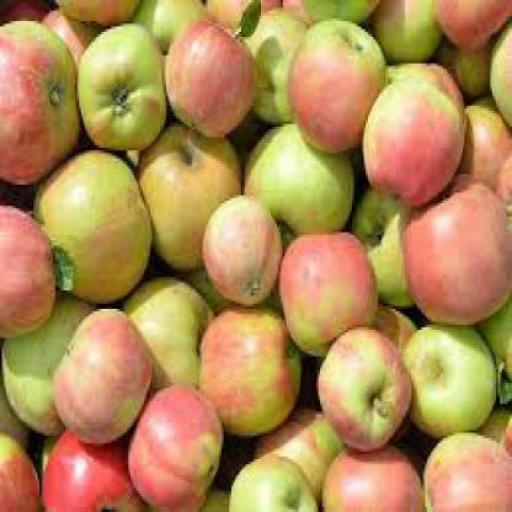biodegradable: (29, 142, 149, 304), (400, 168, 510, 322), (358, 61, 467, 206), (138, 124, 240, 270), (49, 304, 150, 443), (0, 291, 95, 438), (240, 118, 354, 238), (286, 15, 386, 151), (0, 14, 78, 182), (312, 324, 412, 449), (198, 306, 297, 432), (277, 230, 378, 352), (127, 382, 219, 510), (74, 21, 164, 150), (400, 316, 496, 434), (162, 13, 252, 132), (121, 272, 209, 388), (198, 187, 281, 309), (253, 404, 344, 510), (39, 427, 143, 510), (0, 190, 55, 335), (352, 184, 415, 306), (422, 430, 510, 510), (243, 8, 305, 121), (320, 443, 421, 510), (443, 96, 510, 190), (186, 264, 290, 322), (227, 456, 317, 510), (368, 0, 441, 58), (128, 0, 203, 55), (433, 0, 510, 48), (431, 34, 486, 98), (476, 293, 510, 383), (0, 430, 38, 510), (204, 0, 281, 37), (486, 18, 511, 124), (39, 2, 85, 56), (0, 371, 28, 456), (301, 0, 377, 21), (492, 140, 510, 206), (49, 242, 74, 288), (1, 0, 46, 18), (280, 0, 308, 25), (198, 485, 227, 509), (237, 0, 257, 34), (497, 353, 510, 404), (502, 412, 510, 451)
